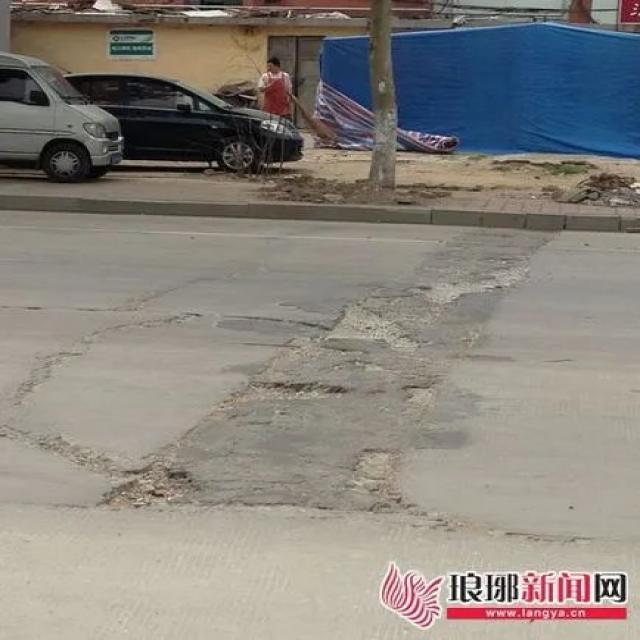Pothole: (88, 220, 528, 534)
